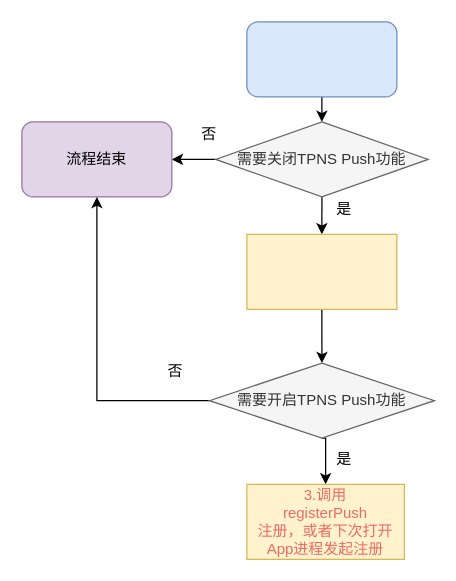
Some shapes in this 456 by 581 pixel diagram are drawn without their labels. The shapes that lost their labels are listed below. From the top down, each one's box as (x1, y1, x2, y2) in pixels, then its label:
(246, 21, 397, 97): 1.用户正常使用App
(246, 233, 397, 309): 2.注销Push能力：调用unregisterPush
